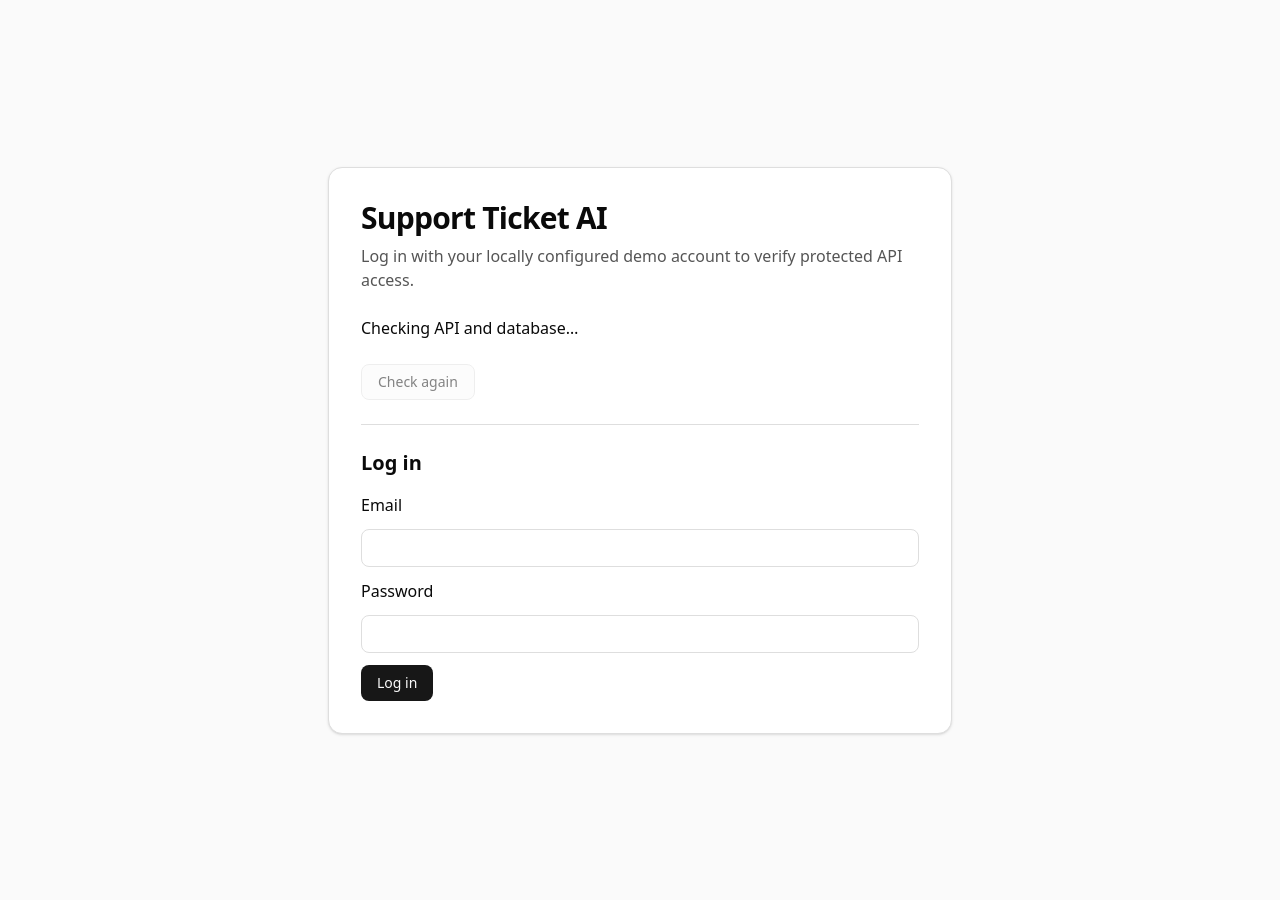
Test case: chat-first support › clears accepted human draft while network is pending
Type "demo@example.test" into the field labelled "Email".
click(640, 548); type("demo@example.test")  # box [361,528,919,566]
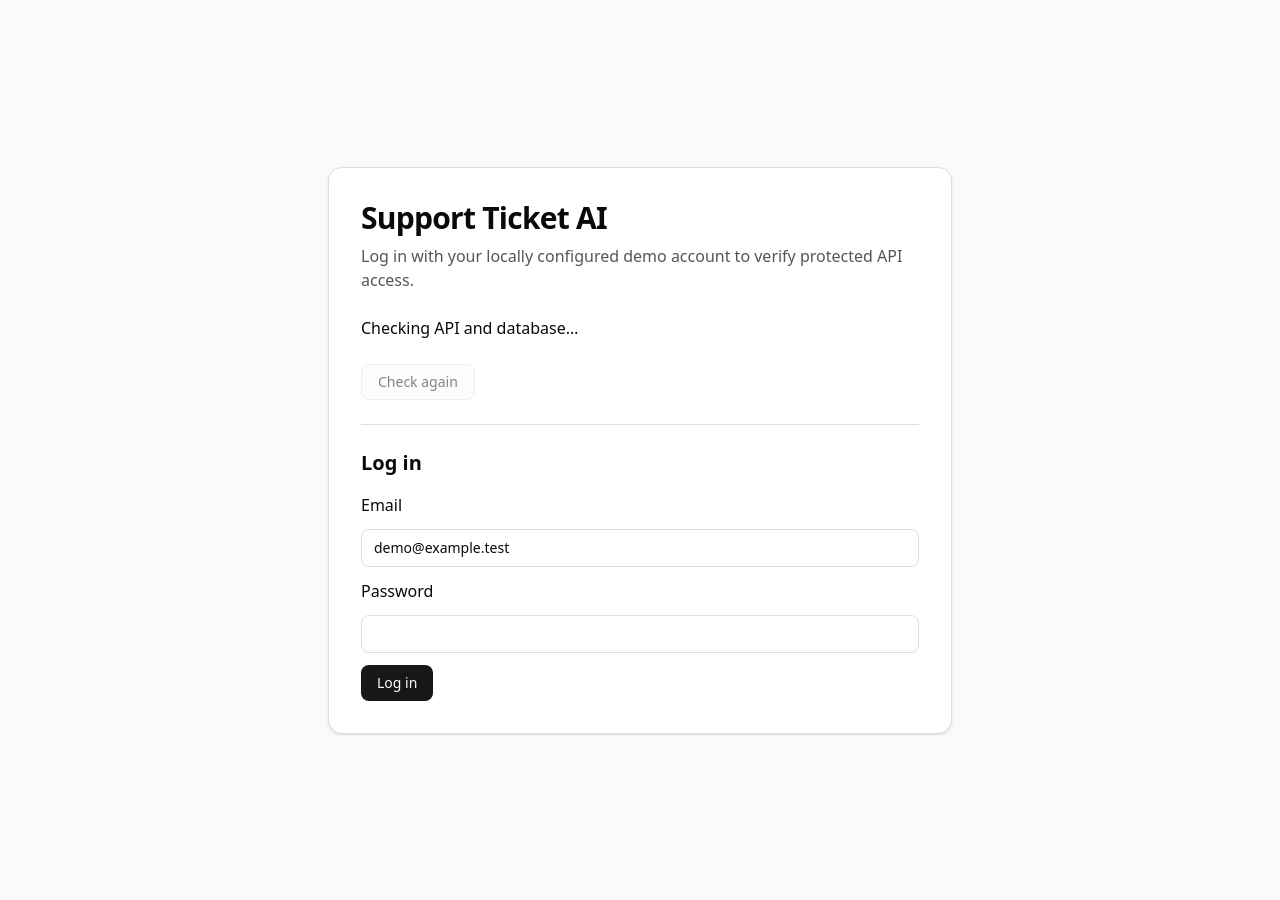
Type "synthetic-password" into the password field labelled "Password".
click(640, 634); type("synthetic-password")  # box [361,614,919,652]
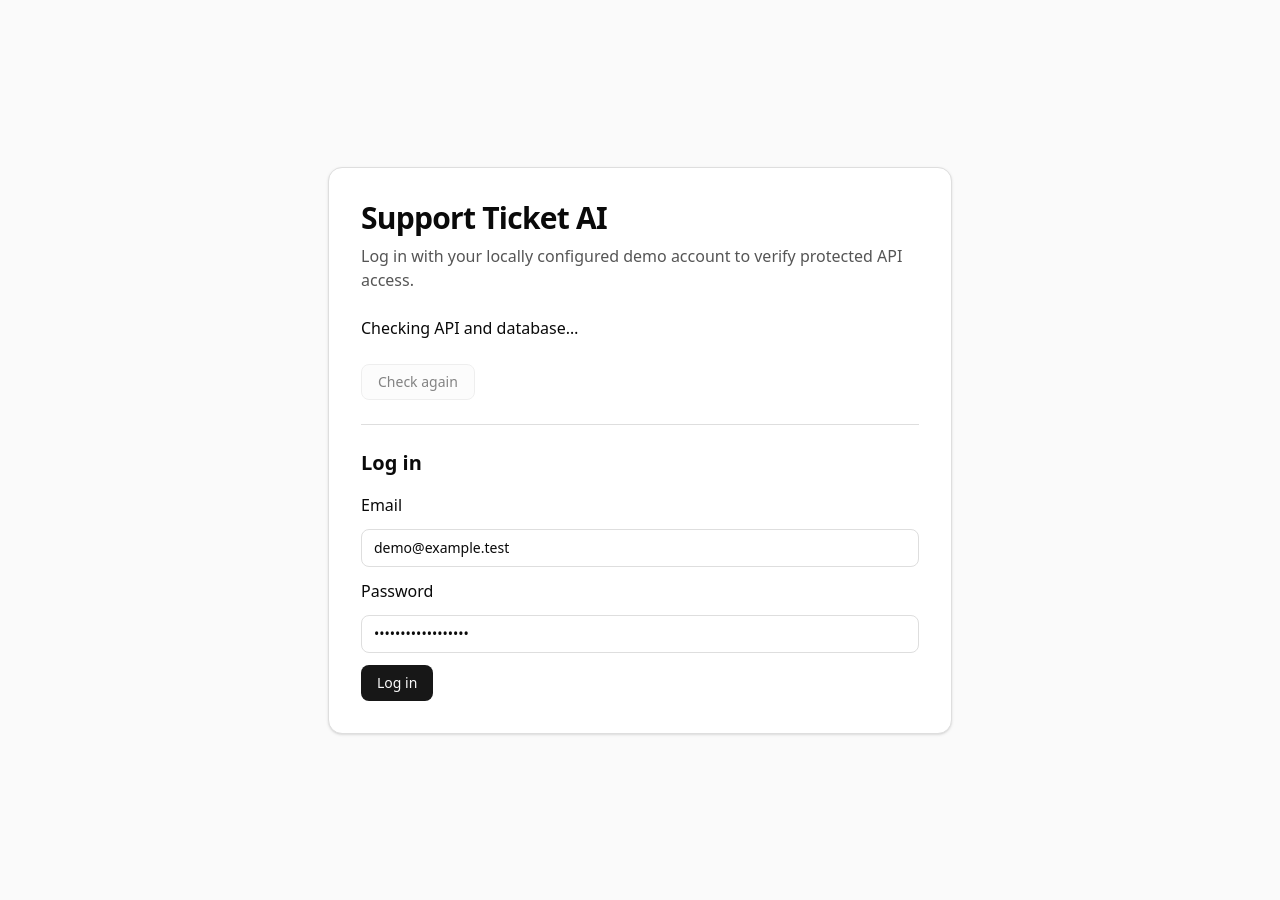
Click the button "Log in".
click(397, 682)  # box [361,664,433,700]
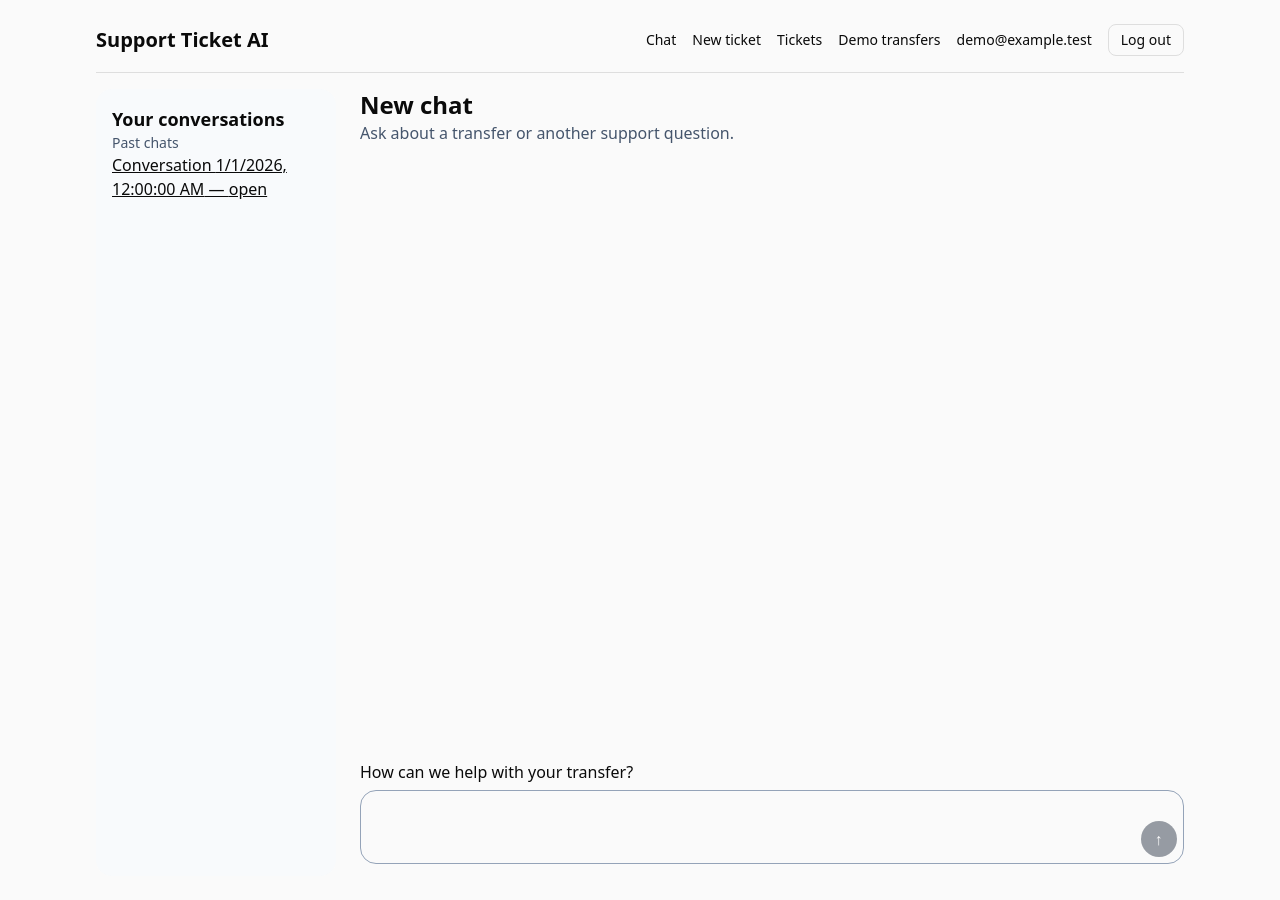
Now the text "demo@example.test" is shown, box [957,30,1092,50]
Click the link "Conversation 1/1/2026, 12:00:00 AM — open".
click(164, 165)  # box [112,154,287,200]
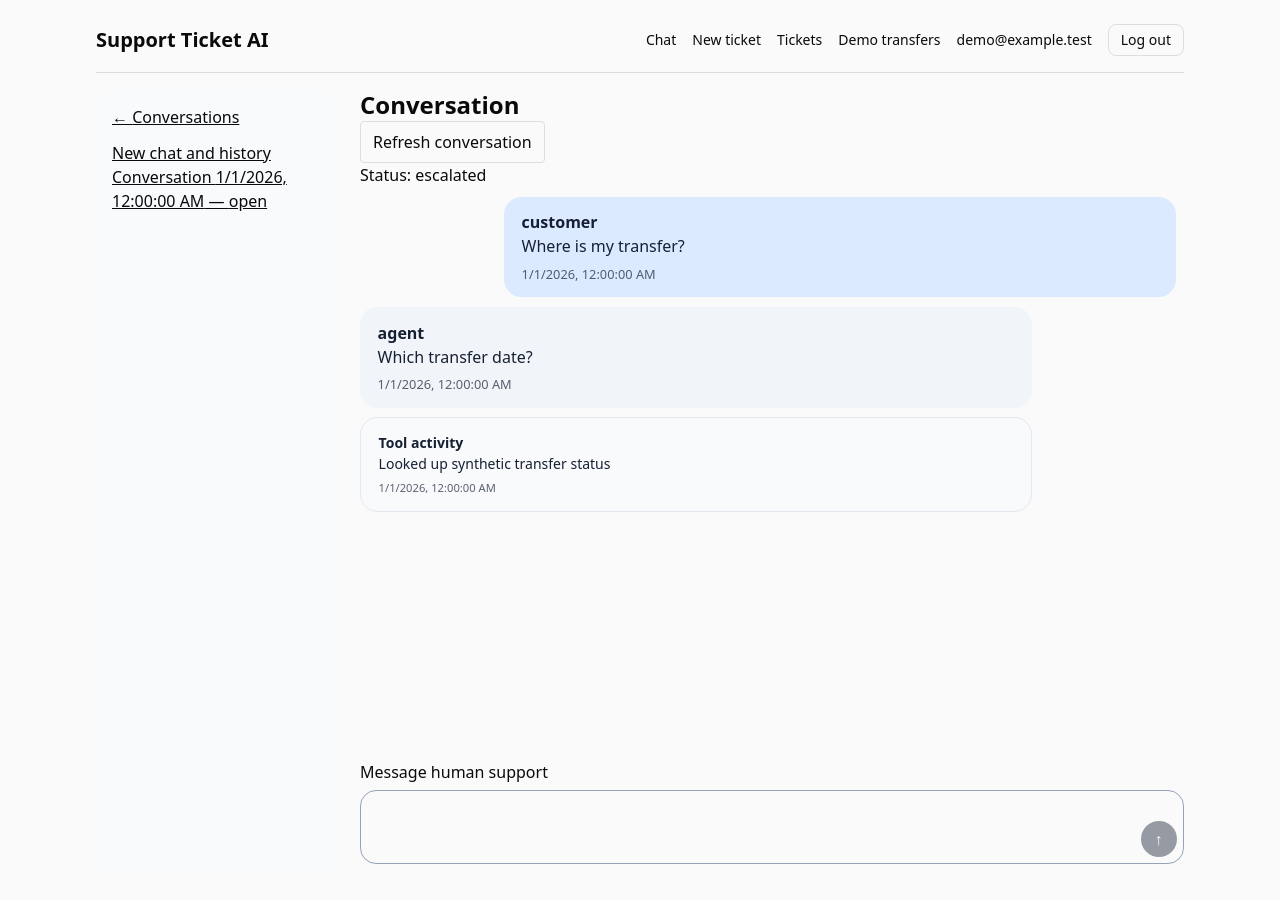
Now the text "Which transfer date?" is shown, box [378,346,533,368]
Type "  June 1  " into the text box labelled "Message human support".
click(750, 827); type("  June 1  ")  # box [367,797,1133,857]
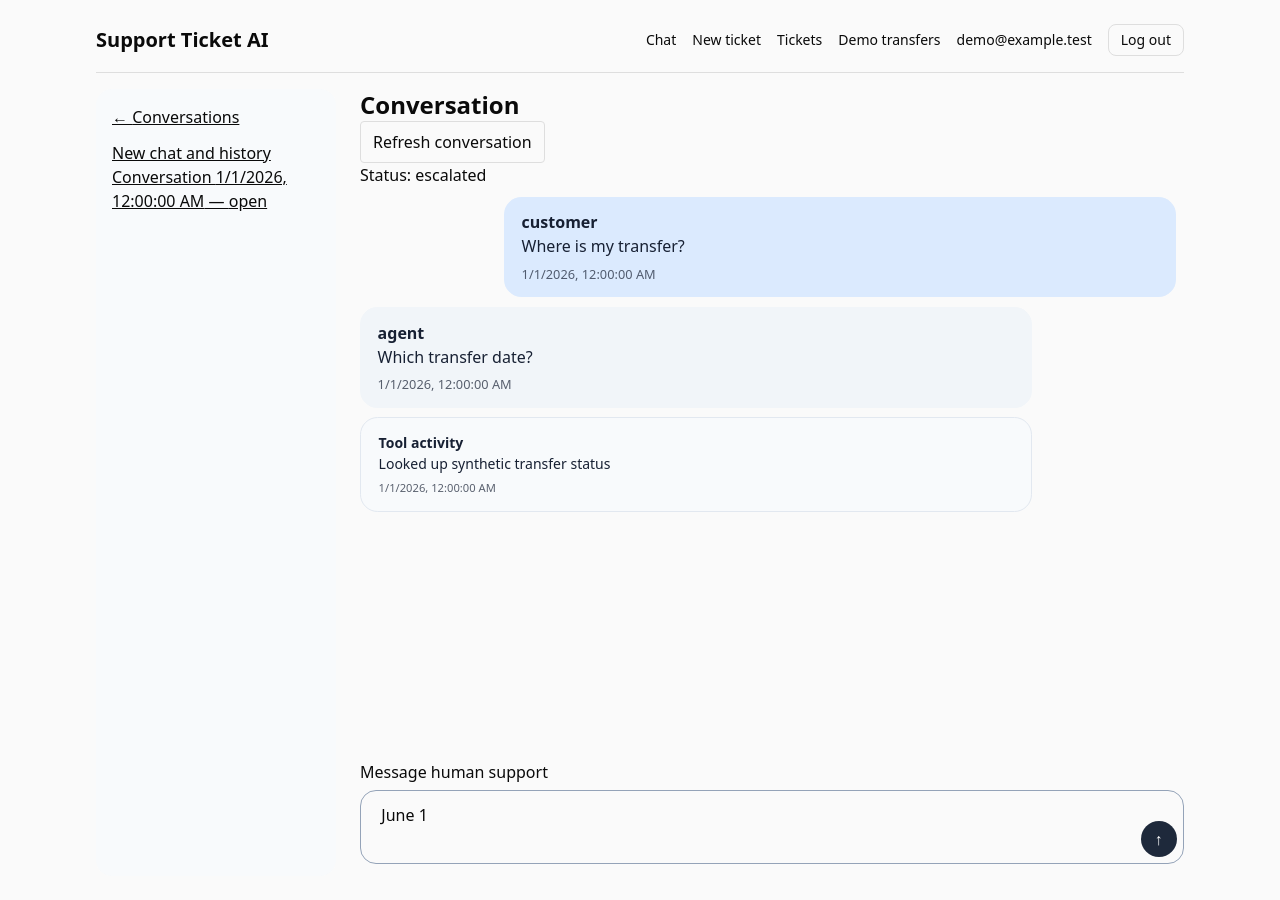
Click the button named "Send message".
click(1159, 839)  # box [1141,821,1177,857]
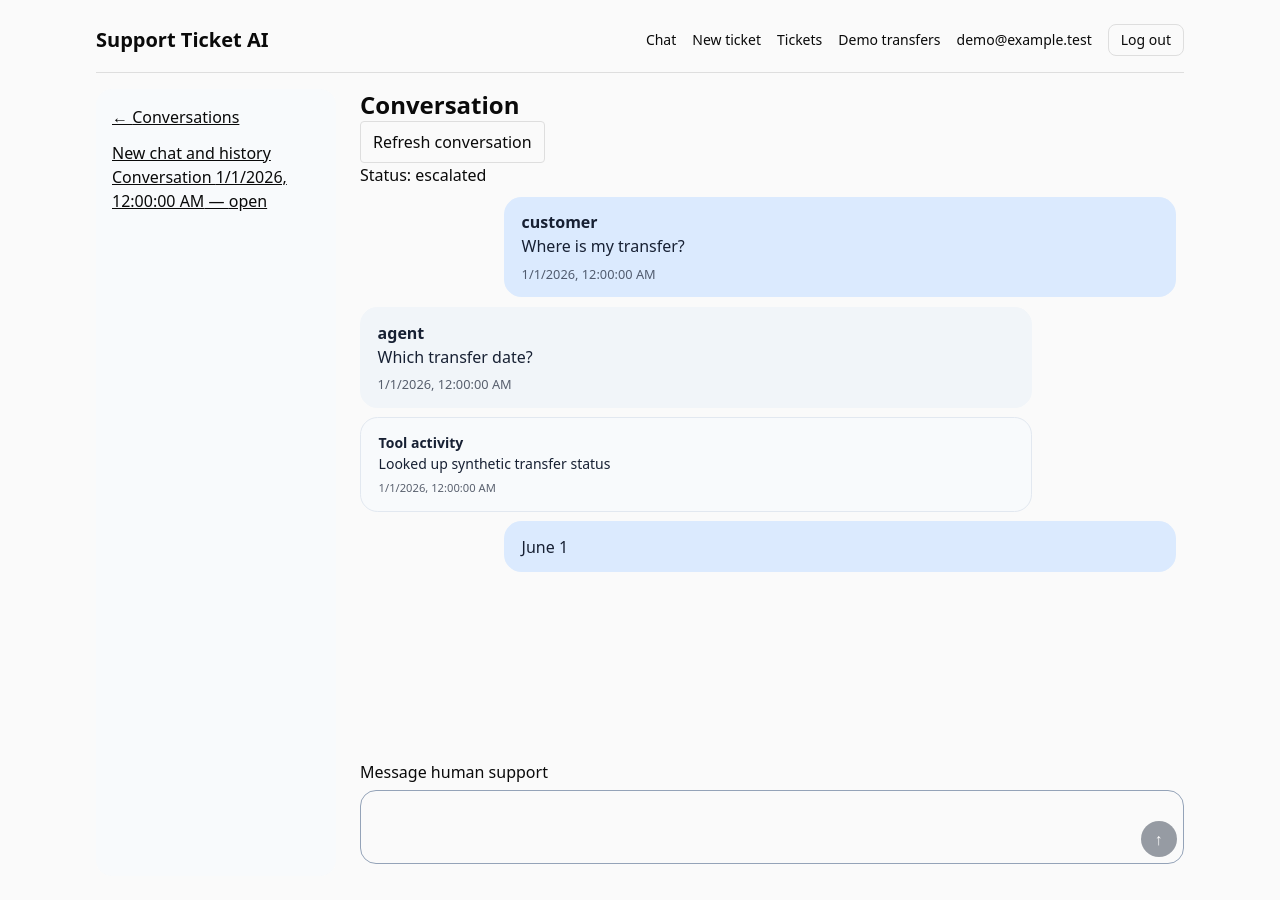
Now the text "June 1" is shown, box [504,521,1176,572]
Now the text box labelled "Message human support" is empty, box [367,797,1133,857]
